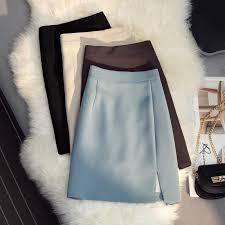skirt: (69, 69, 179, 203)
